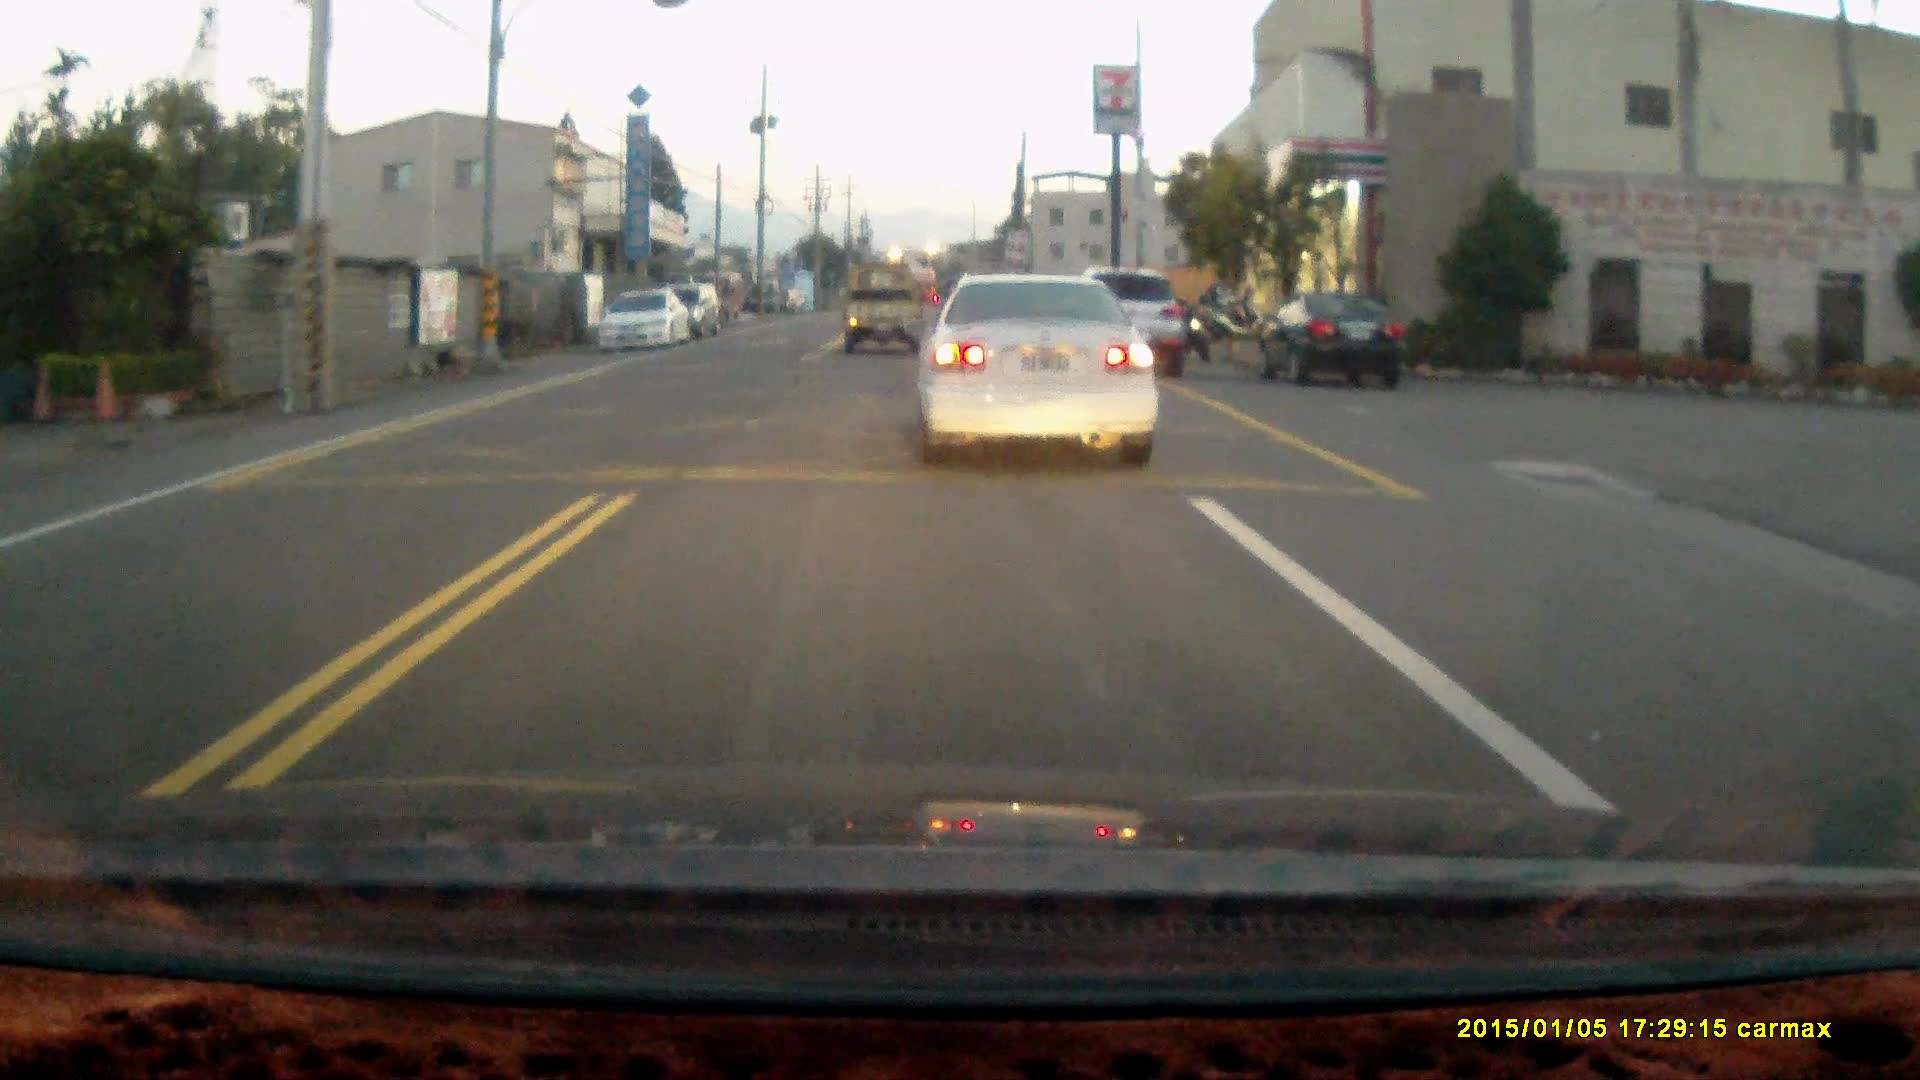vehicle: (915, 272, 1164, 469), (1253, 290, 1411, 390), (1065, 266, 1189, 375), (841, 265, 931, 356), (589, 289, 694, 355)
